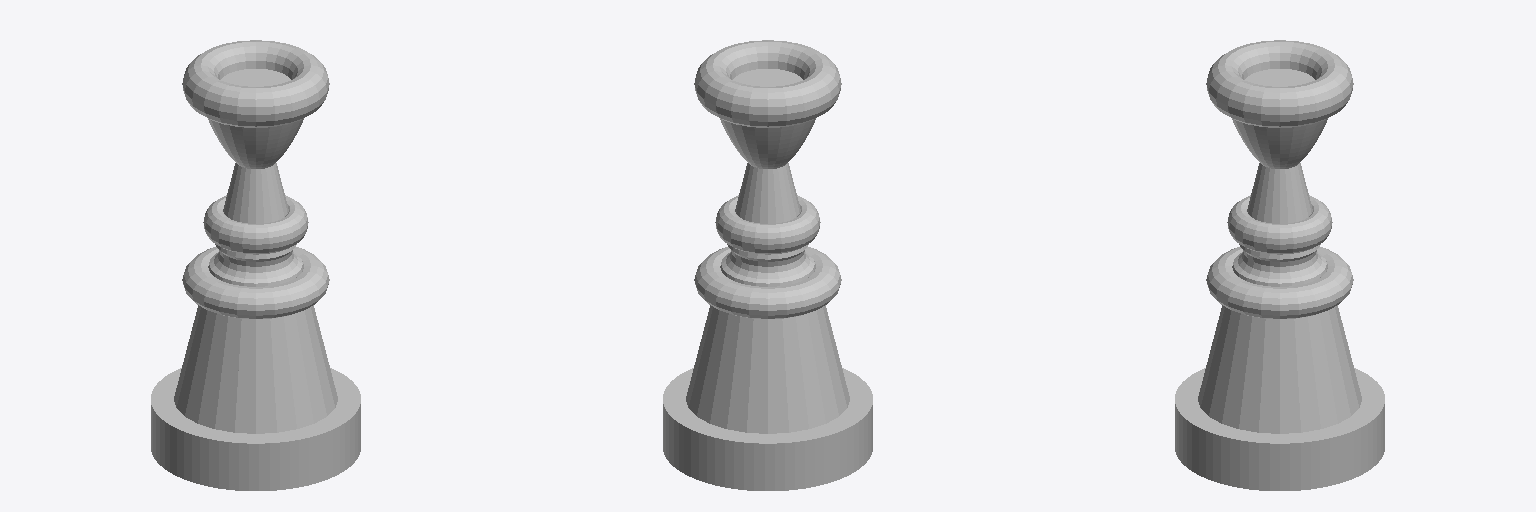
Rendered from Dame.obj.
3 views of the same model, side by side, from view 1: azimuth 30°, elevation 25°; view 2: azimuth 150°, elevation 25°; view 3: azimuth 270°, elevation 25° (orthographic).
Parts seen in each view (by area): view 1: obj_0.002; view 2: obj_0.002; view 3: obj_0.002.
Boxes of the visible parts, x1,y1,x2,y2 form: obj_0.002: [151, 40, 360, 490]; obj_0.002: [663, 40, 872, 490]; obj_0.002: [1175, 40, 1384, 490].
Bounding box in the file's own units: 20 × 40 × 20.